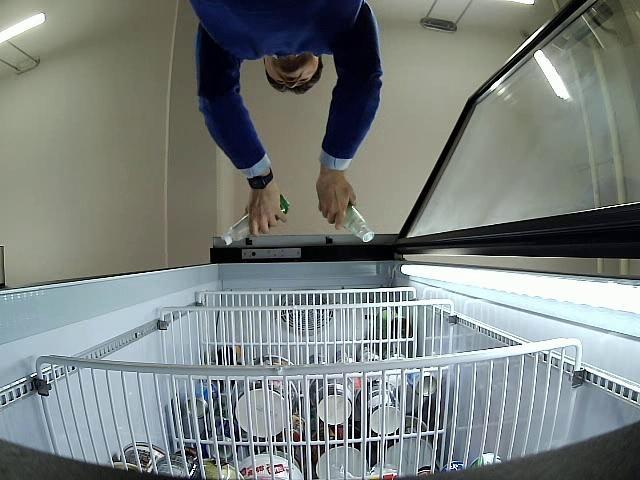18_trevi: (222, 193, 290, 248), (346, 202, 376, 244)
